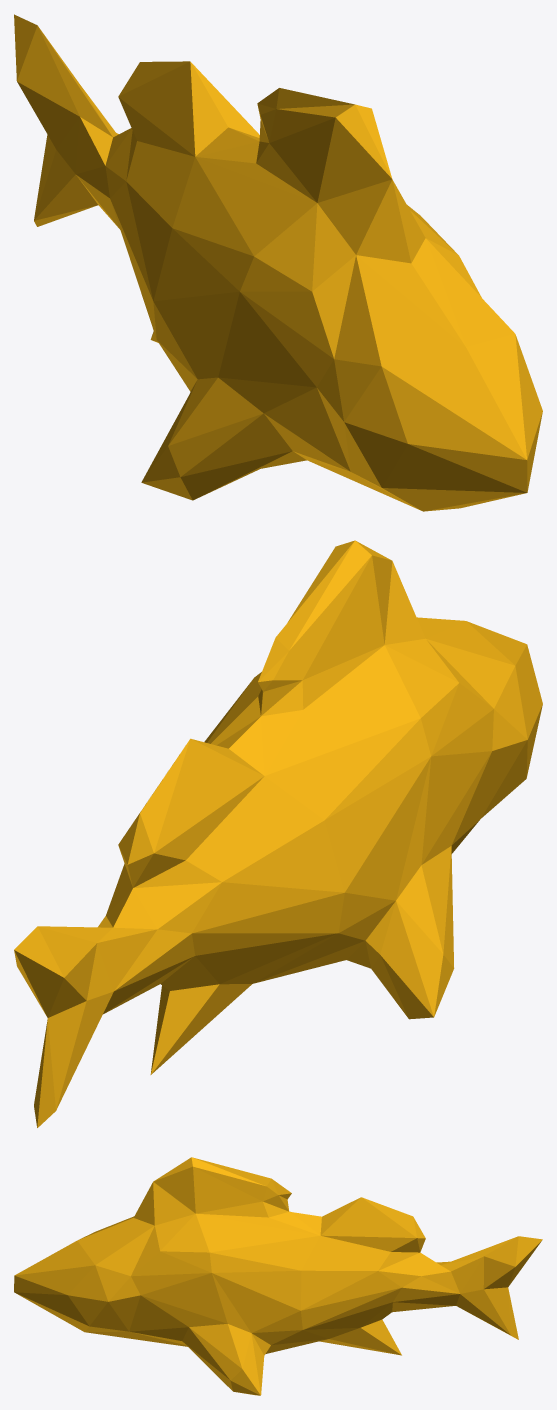
The model's file is Fish_03.fbx.
3 views of the same model, one above another, from view 1: azimuth 30°, elevation 25°; view 2: azimuth 150°, elevation 25°; view 3: azimuth 270°, elevation 25° (orthographic). The views are drawn at different scales.
Parts seen in each view (by area): view 1: Fish_03; view 2: Fish_03; view 3: Fish_03.
Part boxes in pixels (x1,y1,x2,y2): Fish_03: (14, 14, 542, 511); Fish_03: (14, 540, 542, 1127); Fish_03: (14, 1157, 542, 1395).
Size of the model in its own units: 120 by 159 by 365.
